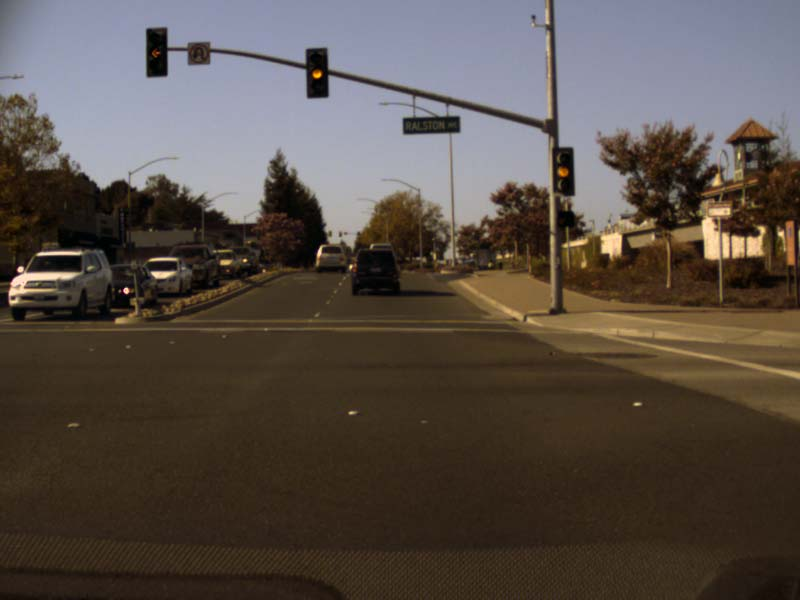Red: (146, 27, 166, 75)
Yellow: (305, 47, 327, 96), (552, 146, 574, 195)
